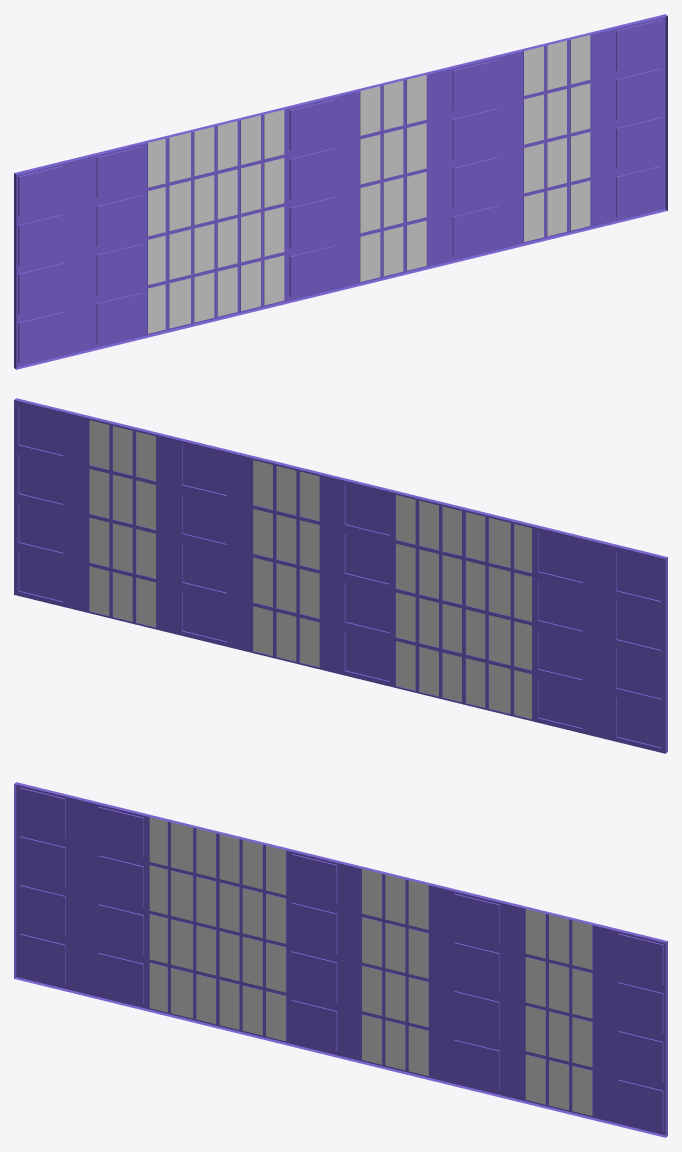
File: pared con ventana 2.fbx
3 renders of one model, top to bottom at view 1: azimuth 30°, elevation 25°; view 2: azimuth 150°, elevation 25°; view 3: azimuth 330°, elevation 25°, orthographic.
Parts seen in each view (by area): view 1: Ventana papel 2; view 2: Ventana papel 2; view 3: Ventana papel 2.
Boxes of the visible parts, x1=… form: Ventana papel 2: x1=14, y1=14, x2=667, y2=369; Ventana papel 2: x1=14, y1=398, x2=667, y2=753; Ventana papel 2: x1=14, y1=782, x2=667, y2=1137.
Size of the model in its own units: 7 by 2 by 0.047.
